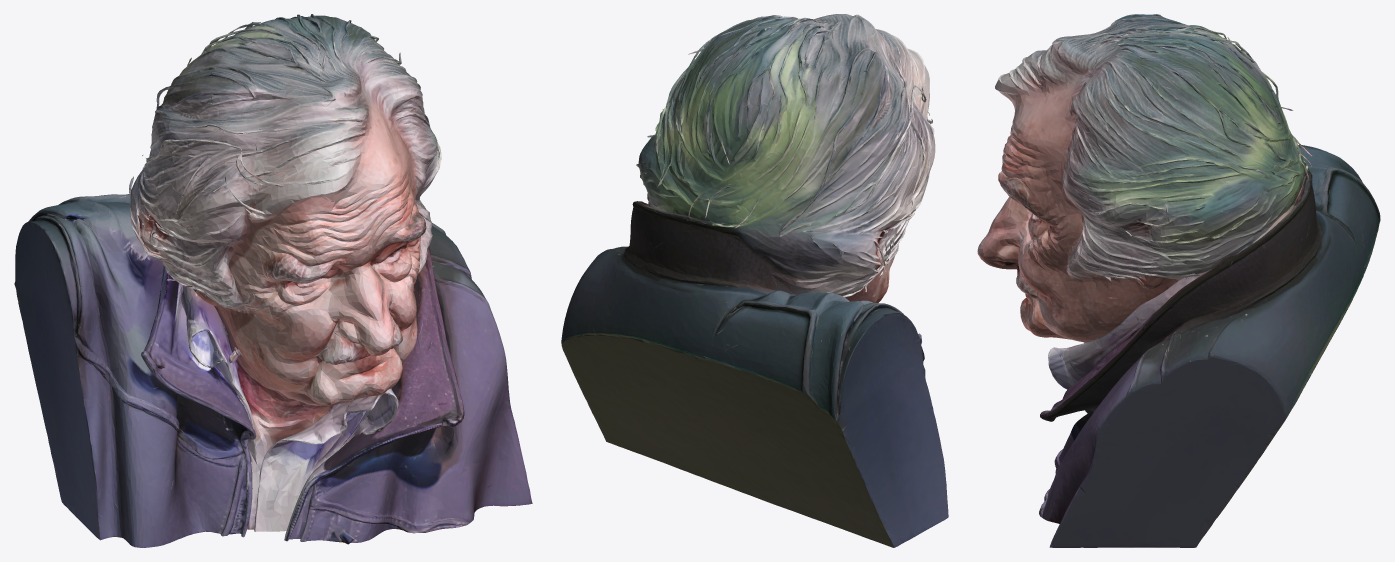
Rendered from ga3_3dmodel.glb.
The picture shows the model from 3 angles, left to right: view 1: azimuth 30°, elevation 25°; view 2: azimuth 150°, elevation 25°; view 3: azimuth 270°, elevation 25°; orthographic projection. The views are drawn at different scales.
Parts seen in each view (by area): view 1: world; view 2: world; view 3: world.
Boxes of the visible parts, x1,y1,x2,y2 form: world: (14, 14, 532, 547); world: (561, 14, 948, 547); world: (977, 14, 1380, 547).
Size of the model in its own units: 0.0965 by 0.12 by 0.1008.
1 material, 1 textured.
